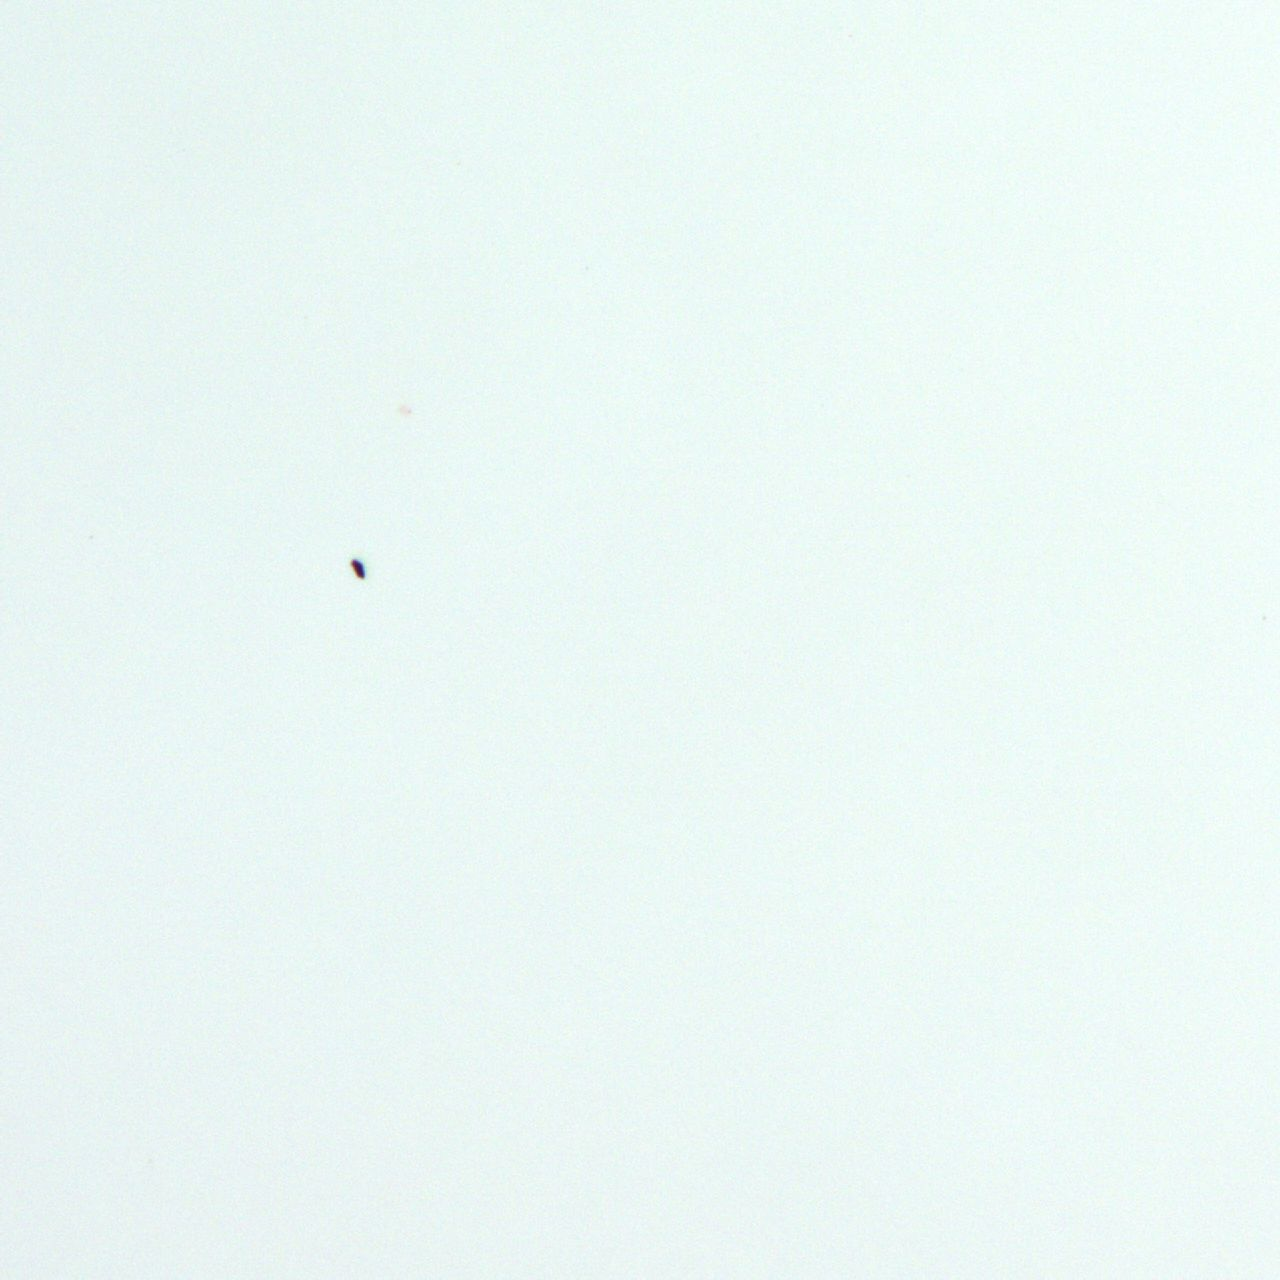dust: (347, 556, 369, 581), (399, 403, 411, 416)
